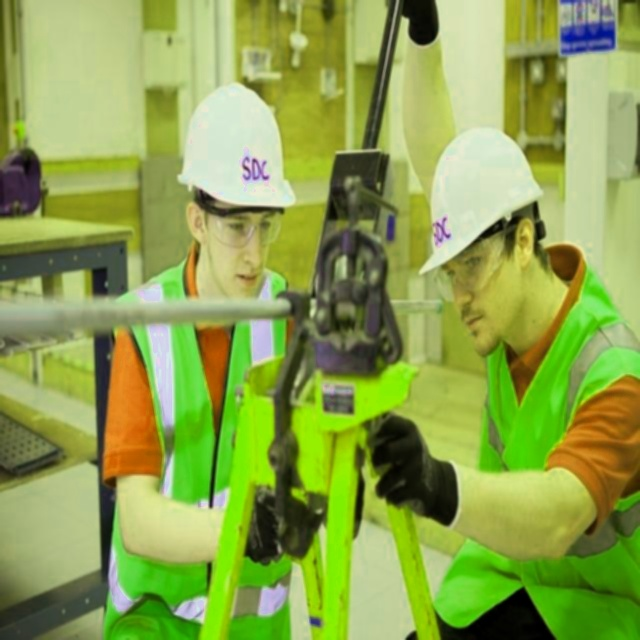Con_Casco: (427, 127, 541, 358)
Con_Chaleco: (115, 271, 295, 640)
